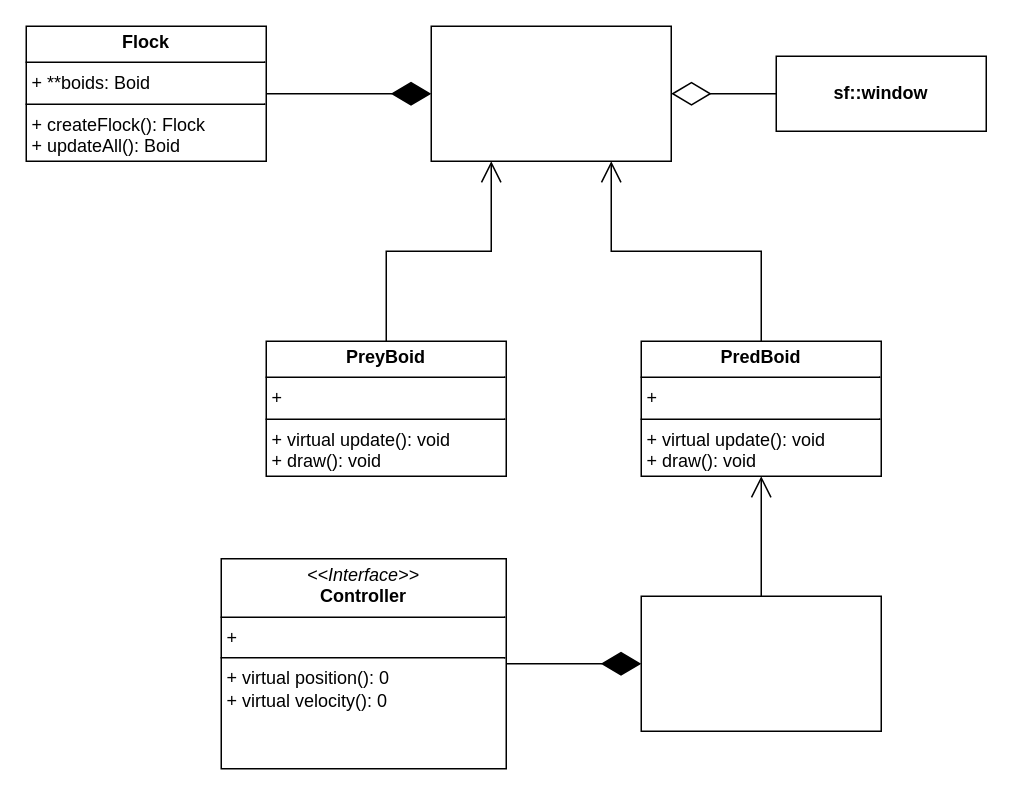
This 1013x807 diagram has some shape labels left out. Each missing label, with the centre of its shape:
Boid + + virtual update(): void: point 550,93
PlayerPred + *controller: Controller + virtual update(): void + draw(): void: point 760,663
